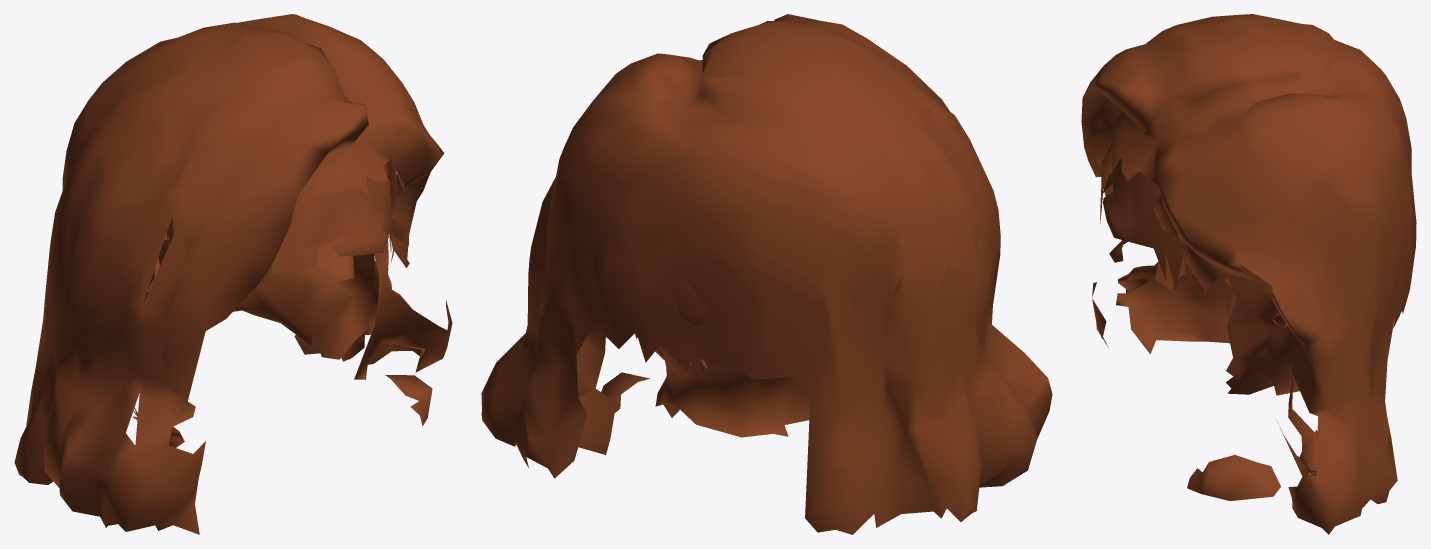
The model's file is long-wavy.glb.
The picture shows the model from 3 angles, left to right: view 1: azimuth 30°, elevation 25°; view 2: azimuth 150°, elevation 25°; view 3: azimuth 270°, elevation 25°; orthographic projection. The views are drawn at different scales.
Visible parts, largest first — view 1: Hair, HairScalp; view 2: Hair, HairScalp; view 3: Hair, HairScalp.
Boxes of the visible parts, <box> form: Hair: <box>14,14,452,534</box>; HairScalp: <box>143,163,392,359</box>; Hair: <box>481,14,1052,534</box>; HairScalp: <box>655,279,809,437</box>; Hair: <box>1081,14,1416,534</box>; HairScalp: <box>1102,158,1299,395</box>.
Bounding box in the file's own units: 0.7283 × 0.6011 × 0.4646.
